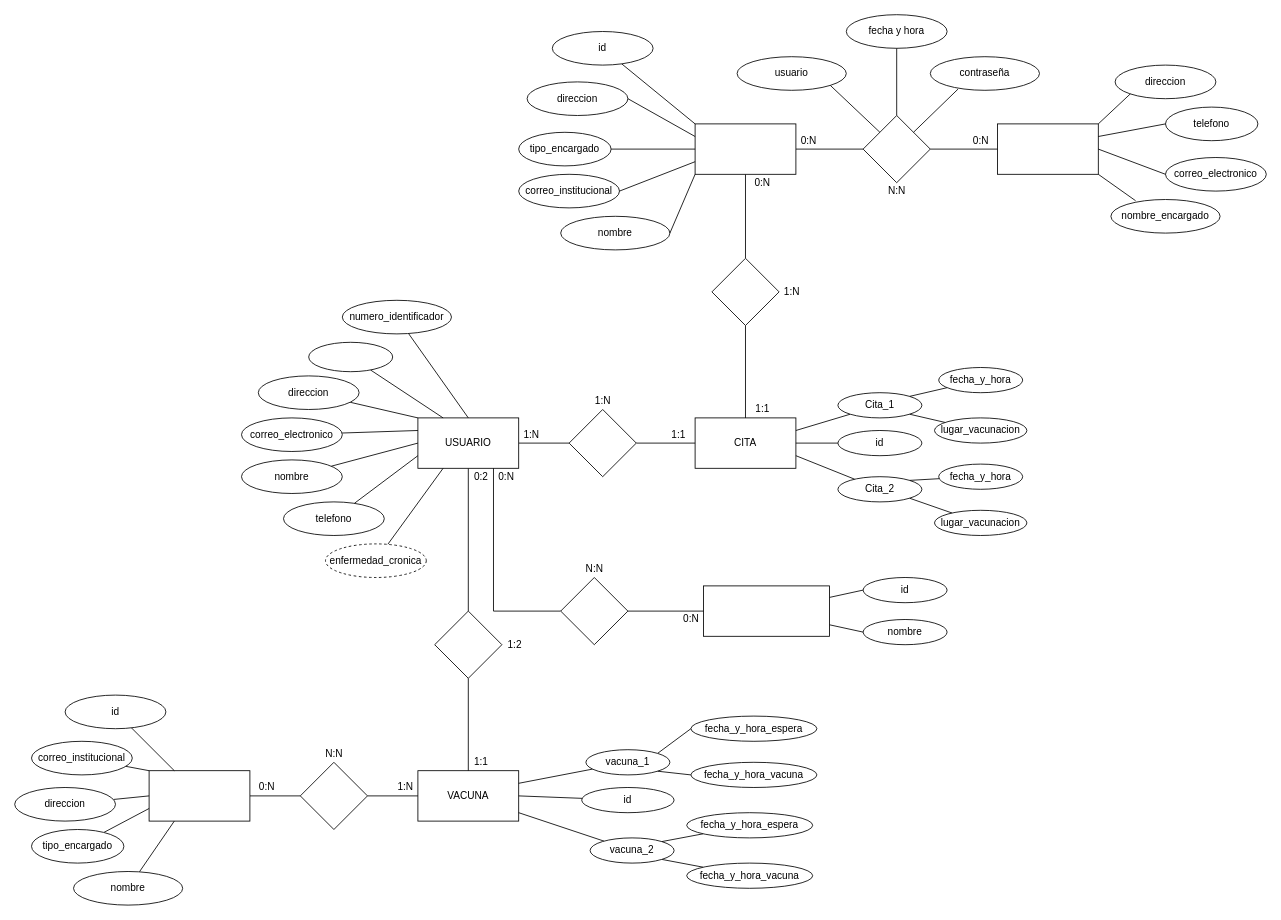
This 1281x920 diagram has some shape labels left out. The shapes that lost their labels are listed below. From the top down, each one's box as (x1, y1, x2, y2) in pixels, then its label:
(694, 123, 796, 174): GESTOR
(862, 115, 930, 183): inicia sesion
(997, 123, 1098, 174): CABINA
(711, 257, 779, 326): administra
(308, 341, 393, 372): DUI
(568, 409, 636, 477): realiza
(560, 577, 628, 645): tiene
(703, 585, 830, 636): EFECTO_SECUNDARIO
(434, 610, 502, 678): asiste
(148, 770, 250, 821): VACUNADOR
(299, 761, 368, 830): aplica
